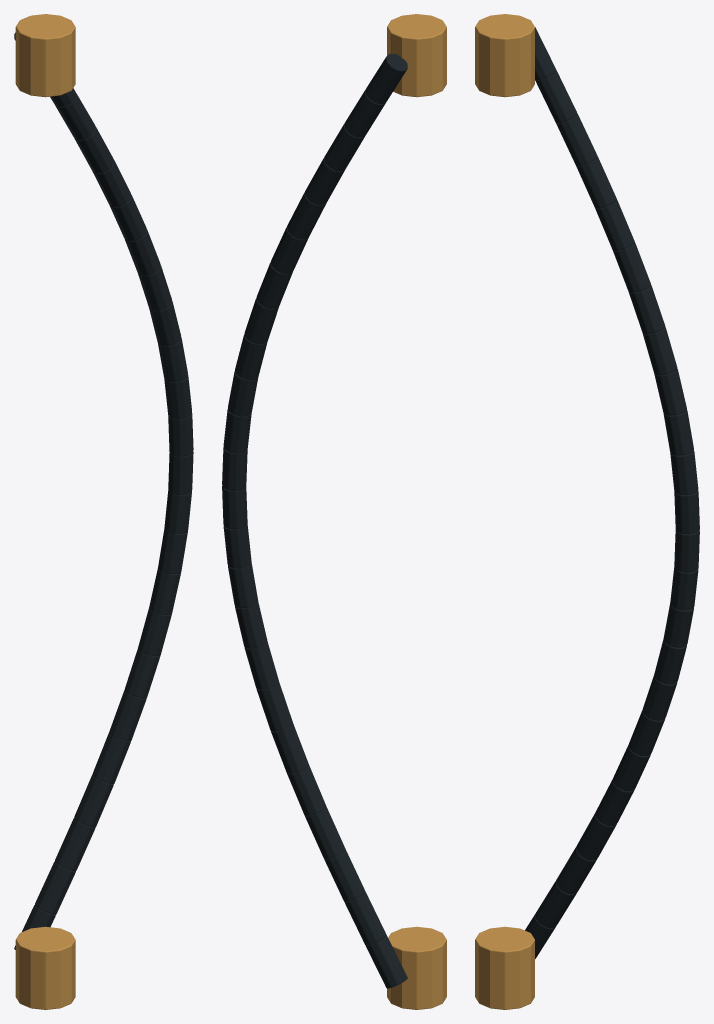
Rendered from SM_Lab_ReactorHarness__Cable_0_B.fbx.
The picture shows the model from 3 angles, left to right: view 1: azimuth 30°, elevation 25°; view 2: azimuth 150°, elevation 25°; view 3: azimuth 330°, elevation 25°; orthographic projection.
Parts seen in each view (by area): view 1: SM_Lab_ReactorHarness__Cable_0_B; view 2: SM_Lab_ReactorHarness__Cable_0_B; view 3: SM_Lab_ReactorHarness__Cable_0_B.
Boxes of the visible parts, x1=… form: SM_Lab_ReactorHarness__Cable_0_B: x1=14, y1=14, x2=193, y2=1009; SM_Lab_ReactorHarness__Cable_0_B: x1=222, y1=14, x2=446, y2=1009; SM_Lab_ReactorHarness__Cable_0_B: x1=475, y1=14, x2=699, y2=1009.
Size of the model in its own units: 48.87 by 19.31 by 232.
